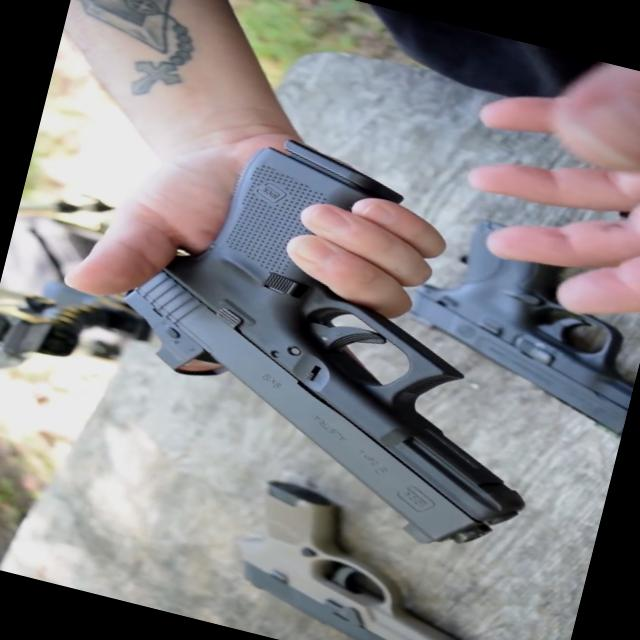handgun: (125, 112, 534, 548), (366, 178, 639, 457), (214, 456, 505, 639)
